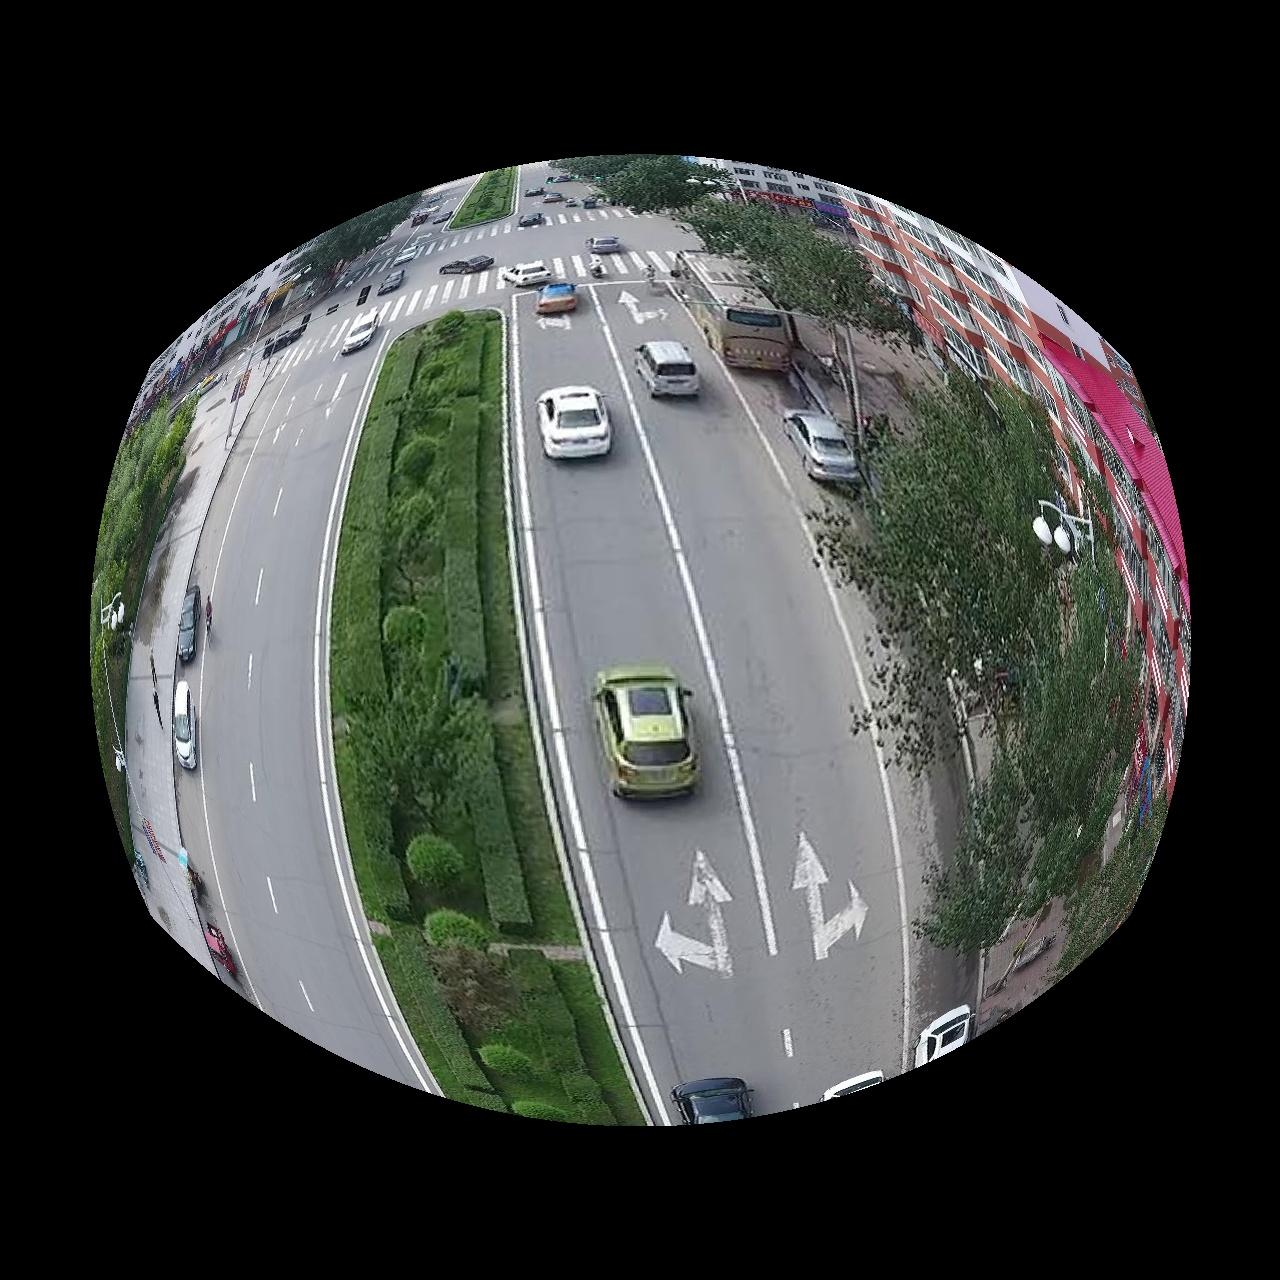cars: (594, 666, 699, 799), (677, 251, 793, 370), (537, 385, 612, 458), (785, 411, 862, 482), (672, 1079, 752, 1126), (917, 1007, 975, 1068), (636, 341, 699, 396), (172, 681, 196, 770), (176, 586, 199, 663), (536, 282, 577, 314)
trees: (329, 311, 643, 1126), (817, 364, 1166, 966), (89, 395, 196, 852)
